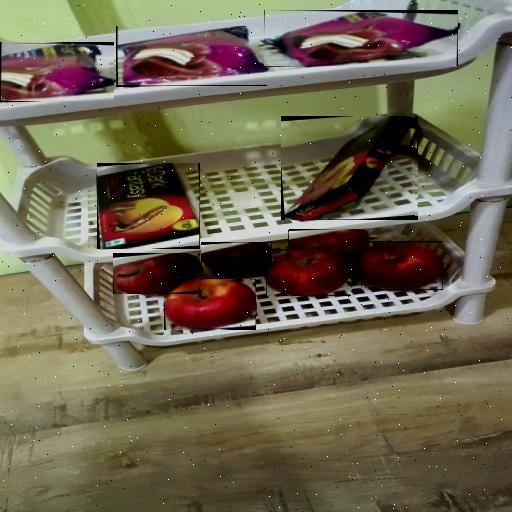Apple: (164, 279, 256, 329), (352, 241, 443, 290), (267, 249, 350, 296), (114, 253, 199, 294), (289, 229, 369, 260), (201, 242, 272, 276)
Choco Fills: (284, 116, 415, 220), (97, 163, 200, 249)
Choco Pie: (264, 11, 458, 66), (118, 26, 267, 86), (1, 44, 114, 101)
